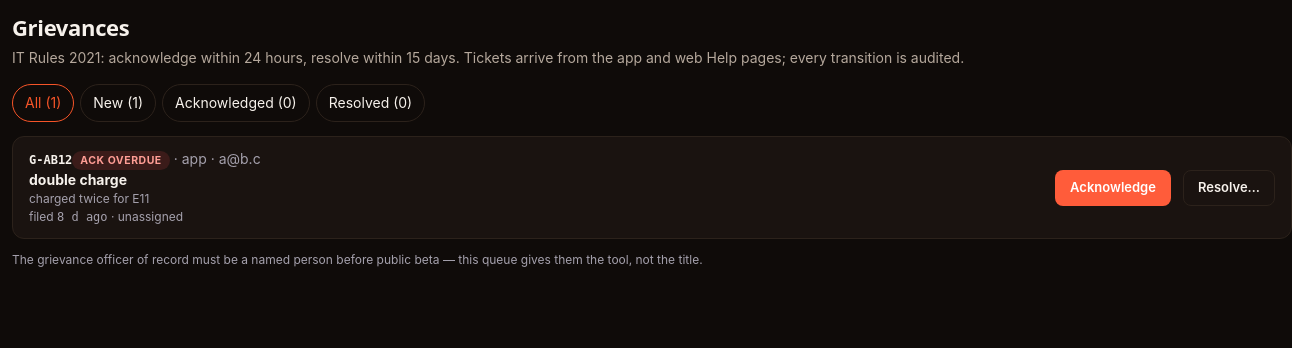
Test: Grievances queue › filters by status tab
Expected: the text "G-AB12" is shown, [29, 154, 72, 168]
Click the tab "Resolved (0)": (370, 103) [316, 84, 425, 122]
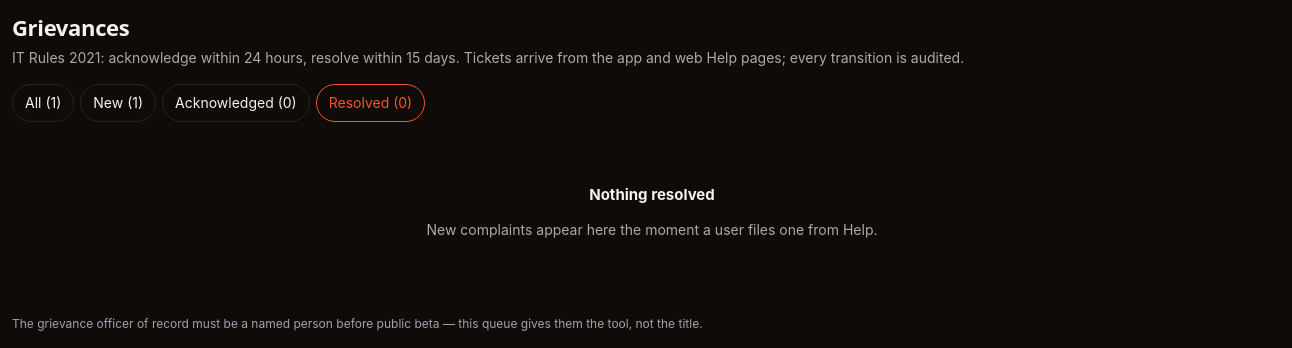
Result: the heading "Nothing resolved" is shown at [589, 186, 715, 204]
